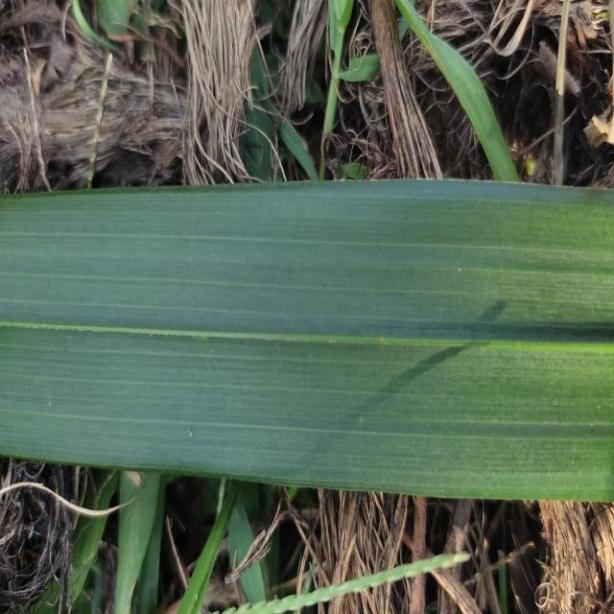Healthy: (0, 179, 614, 502)
